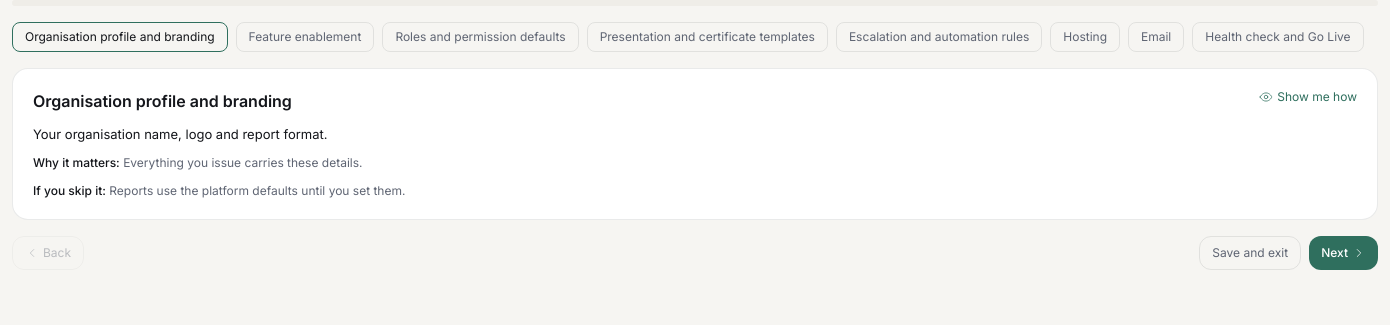
Test case: guided setup wizard (F17) › marks a step done and moves to the next
Click the button with test id "org_admin-wizard-next": (1344, 253) [1309,236,1378,270]
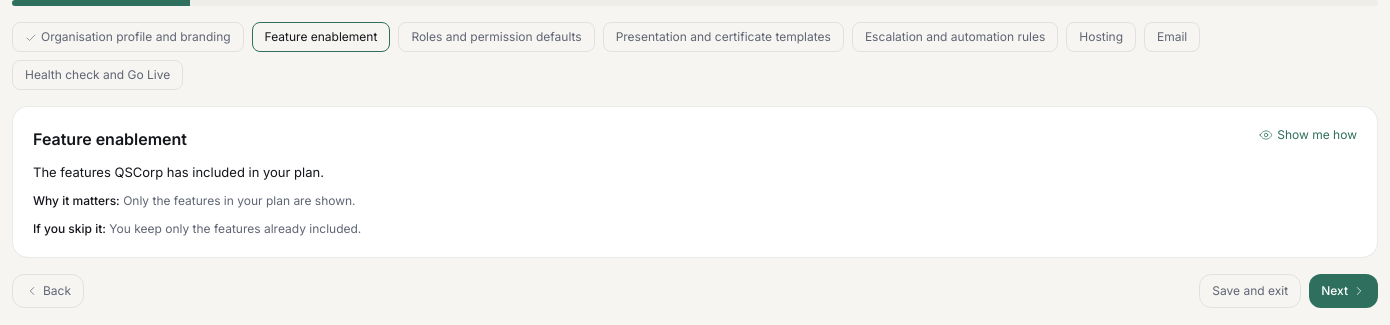
Now the element with test id "org_admin-wizard-body" shows "Feature enablement", box [33,129,187,149]
